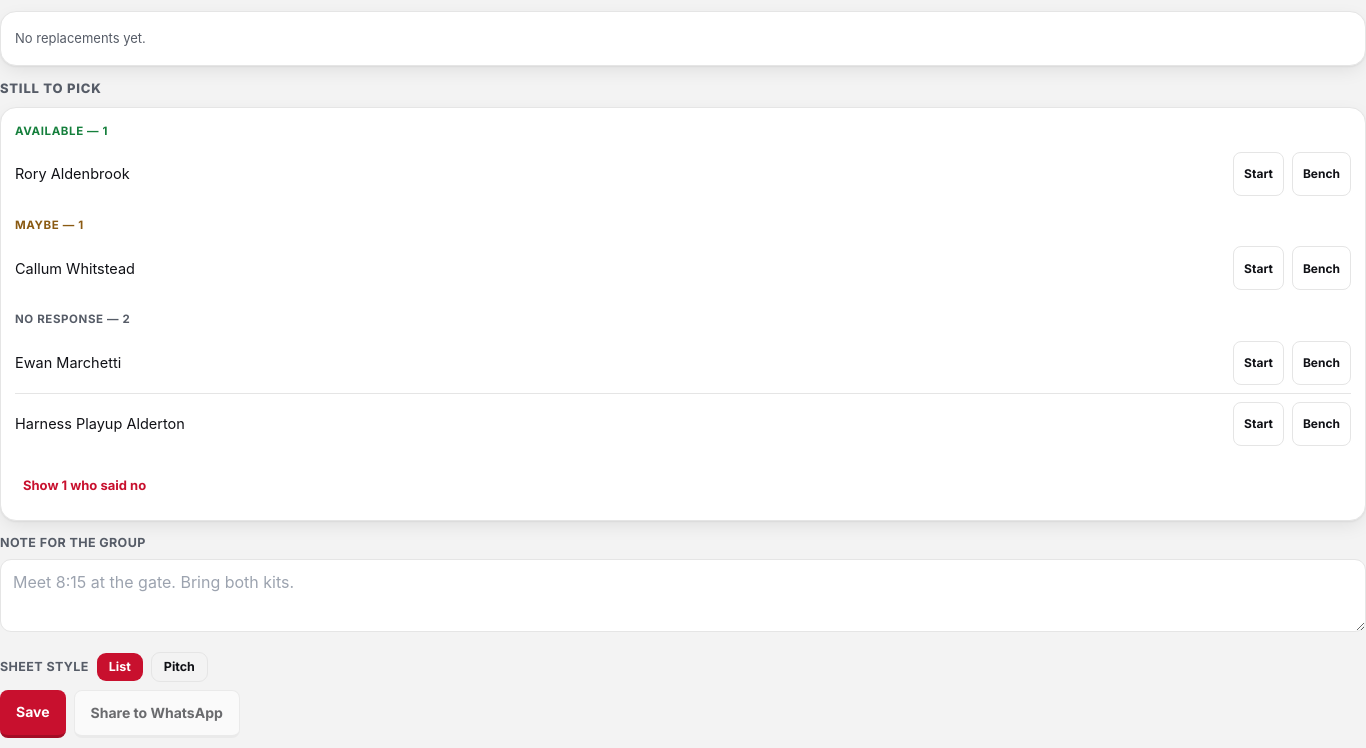
it: junior play-up consent › an approved guest can be started
This screenshot has width=1366, height=748.
(page scrolled)
Expected: the text "Harness Playup Alderton" is shown, [15,415,185,432]
Click the button "Start" in the row of "Harness Playup Alderton": (1258, 424) [1233,402,1284,446]
(page scrolled)
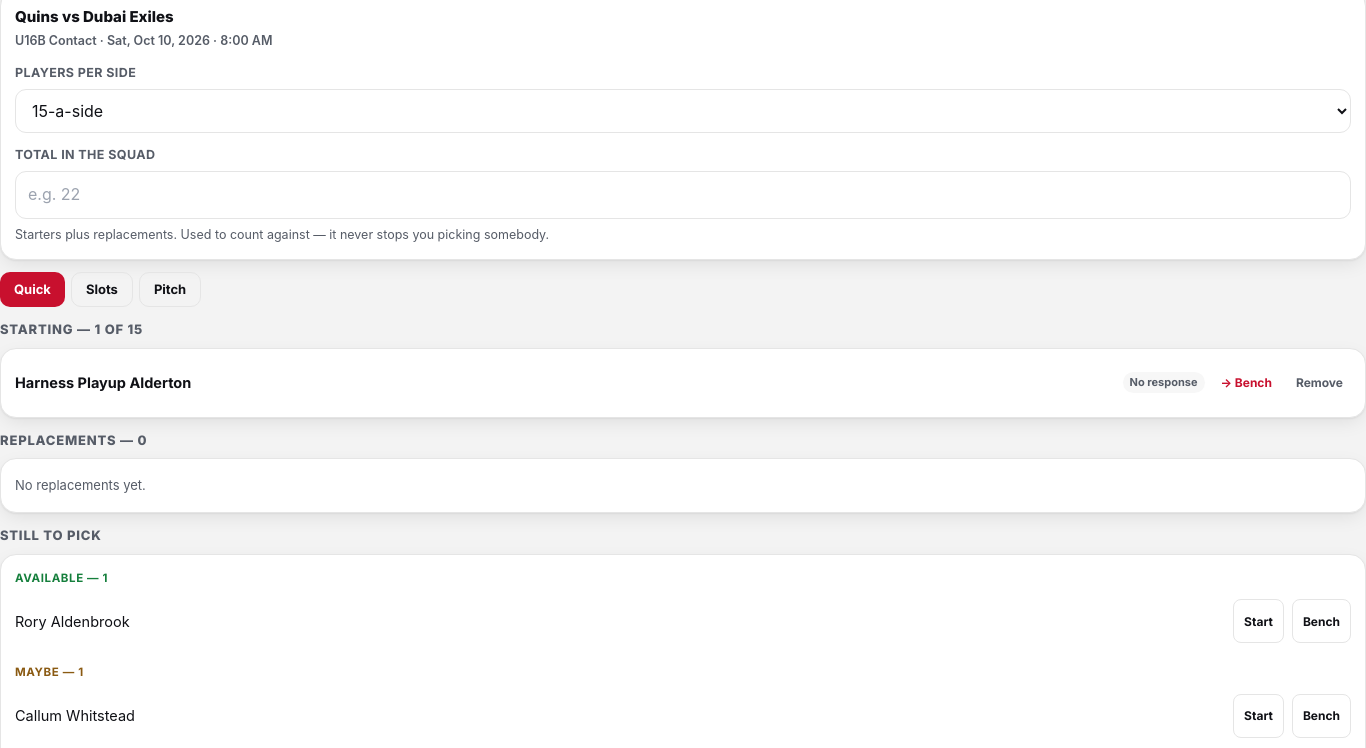
Now the button with aria-label "Remove Harness Playup Alderton" is shown, box [1288,360,1351,404]
